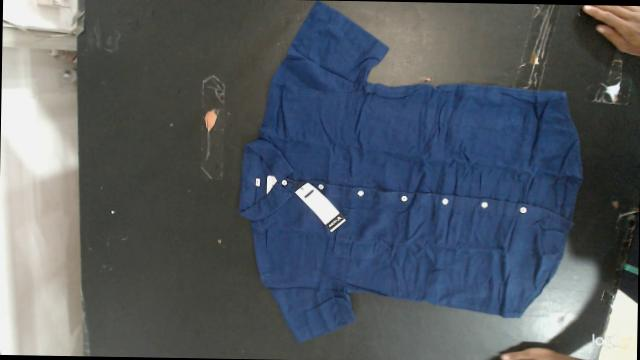new-garment: (239, 1, 582, 341)
